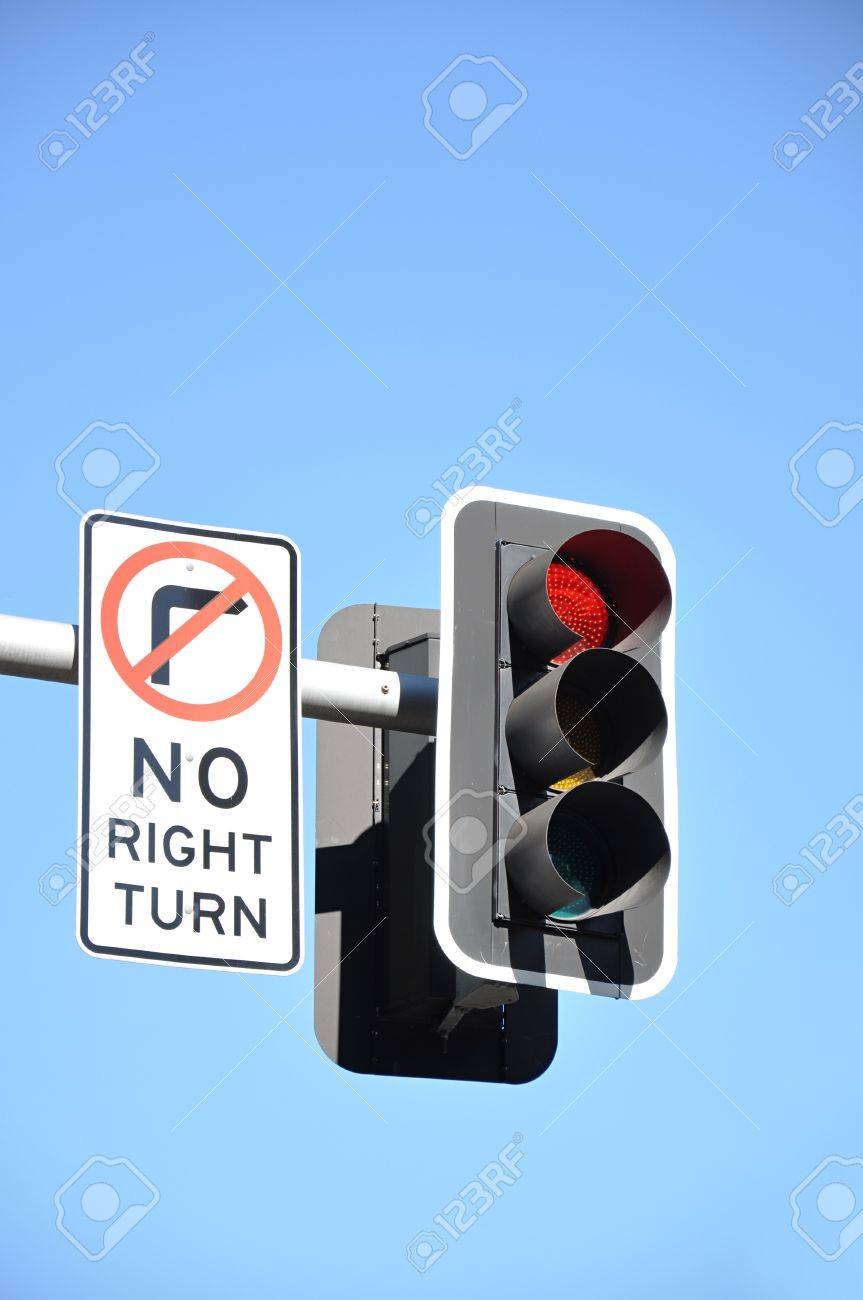No_right_turn: (101, 540, 284, 723)
